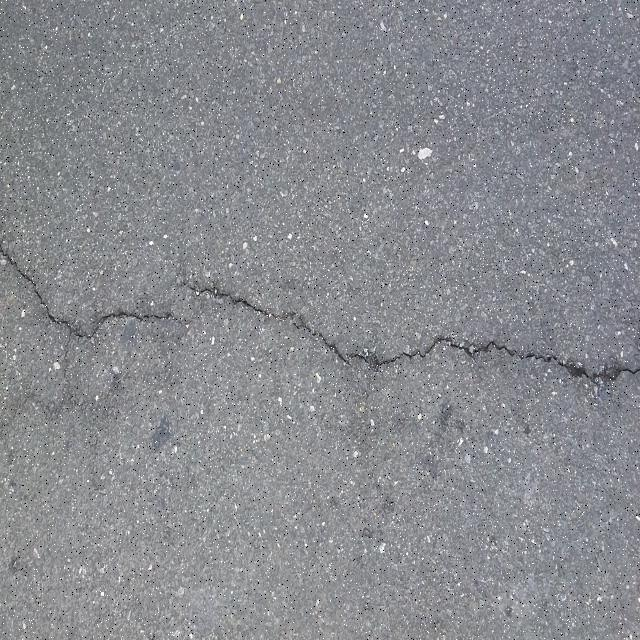Crack: (181, 281, 640, 383), (0, 243, 194, 340)
